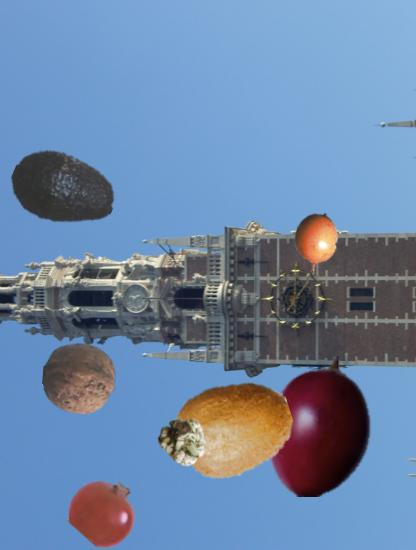Avocado: (10, 137, 117, 244)
Cauliflower: (157, 418, 208, 469)
Granadilla: (283, 212, 348, 277)
Kiwi: (175, 370, 294, 489)
Redcurrant: (71, 477, 140, 546)
Tamarillo: (248, 356, 390, 498)
Walnut: (43, 342, 117, 416)
